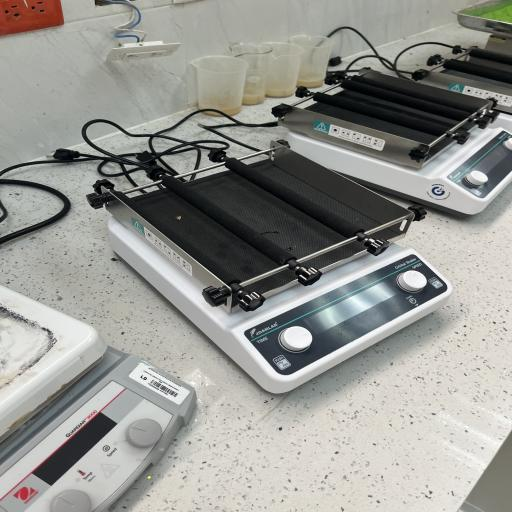Agitador_Orbital_DLAB: (74, 140, 466, 412)
